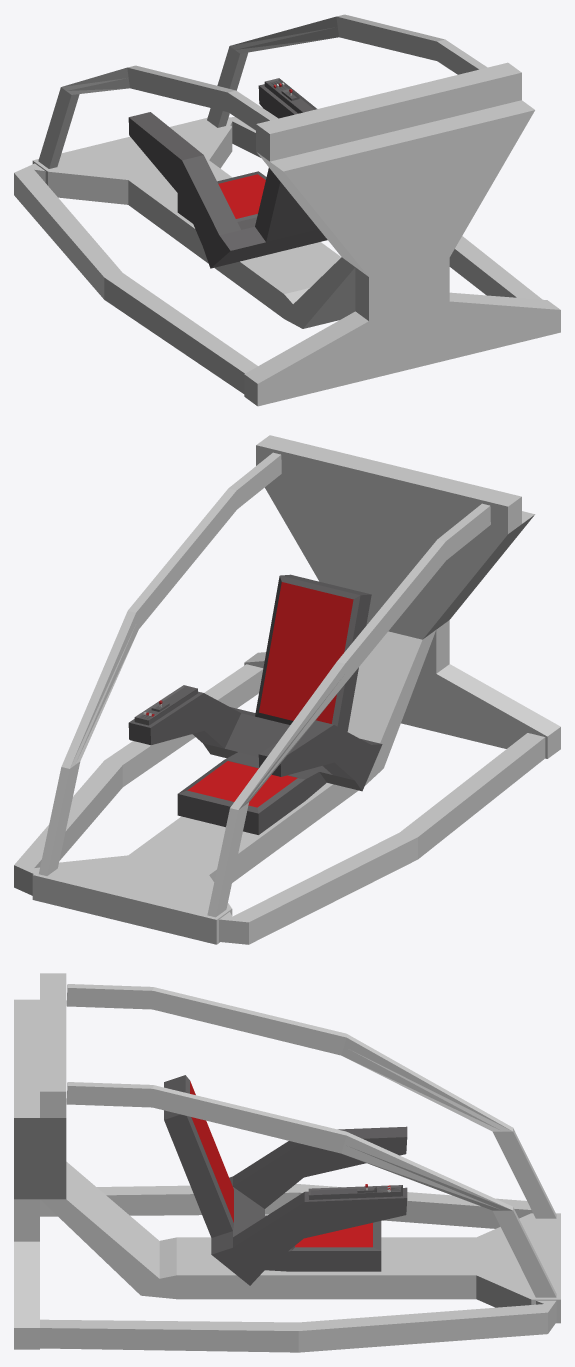
Rendered from cockpit.dae.
3 views of the same model, one above another, from view 1: azimuth 30°, elevation 25°; view 2: azimuth 150°, elevation 25°; view 3: azimuth 270°, elevation 25° (orthographic). The views are drawn at different scales.
Parts seen in each view (by area): view 1: Cube_001, Cube; view 2: Cube_001, Cube; view 3: Cube_001, Cube.
Boxes of the visible parts, <box> form: Cube_001: <box>14,14,560,406</box>; Cube: <box>128,78,327,268</box>; Cube_001: <box>14,435,560,944</box>; Cube: <box>128,574,382,834</box>; Cube_001: <box>14,973,560,1352</box>; Cube: <box>164,1075,407,1285</box>.
Size of the model in its own units: 7.76 by 12.19 by 6.09.
